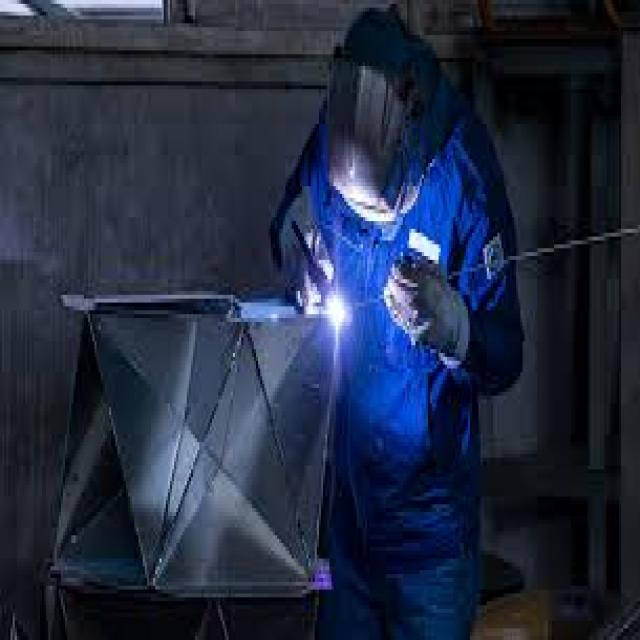welding: (327, 292, 346, 332)
